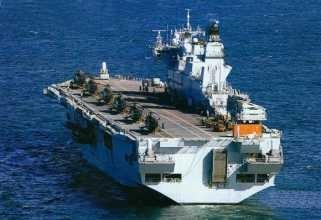warship: (51, 18, 291, 196)
